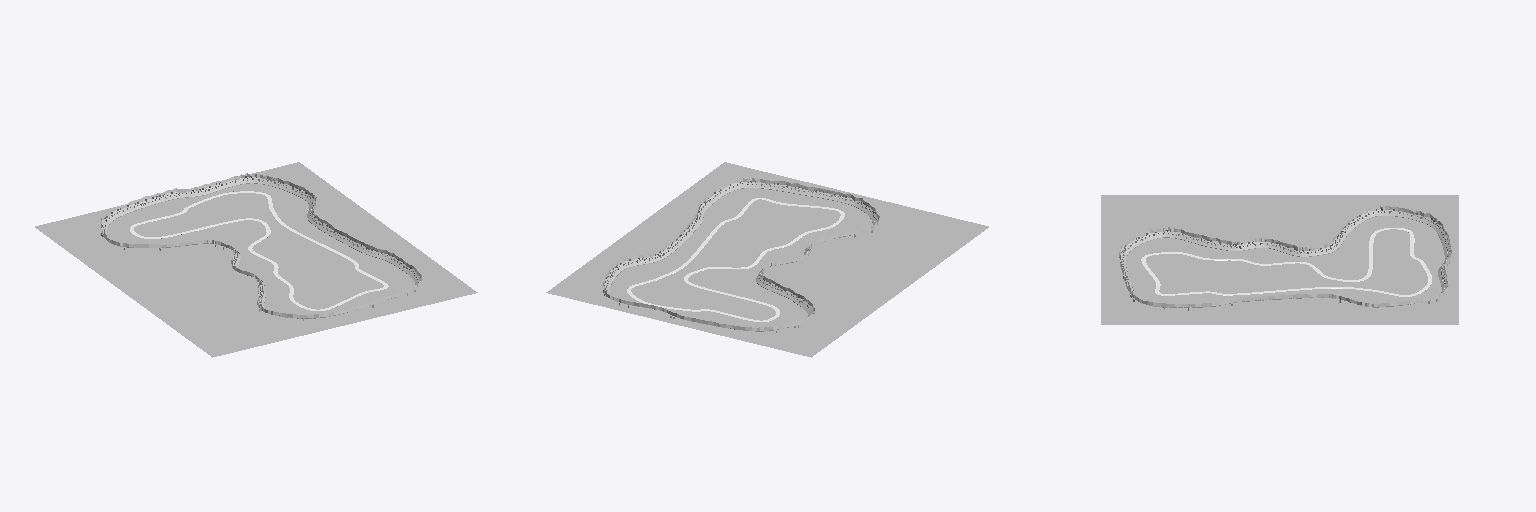
3 views of the same model, side by side, from view 1: azimuth 30°, elevation 25°; view 2: azimuth 150°, elevation 25°; view 3: azimuth 270°, elevation 25° (orthographic).
Parts seen in each view (by area): view 1: Plane, RaceTrack_Wall_00, RaceTrack_Main_00, RaceTrack_Trees_00; view 2: Plane, RaceTrack_Wall_00, RaceTrack_Main_00, RaceTrack_Trees_00; view 3: Plane, RaceTrack_Wall_00, RaceTrack_Main_00, RaceTrack_Trees_00.
Boxes of the visible parts, x1=… form: Plane: x1=35, y1=162, x2=477, y2=357; RaceTrack_Wall_00: x1=101, y1=173, x2=421, y2=318; RaceTrack_Main_00: x1=129, y1=191, x2=388, y2=310; RaceTrack_Trees_00: x1=101, y1=176, x2=420, y2=320; Plane: x1=546, y1=162, x2=988, y2=357; RaceTrack_Wall_00: x1=603, y1=178, x2=879, y2=331; RaceTrack_Main_00: x1=627, y1=198, x2=844, y2=321; RaceTrack_Trees_00: x1=603, y1=181, x2=878, y2=332; Plane: x1=1101, y1=195, x2=1458, y2=324; RaceTrack_Wall_00: x1=1119, y1=206, x2=1451, y2=307; RaceTrack_Main_00: x1=1141, y1=228, x2=1431, y2=296; RaceTrack_Trees_00: x1=1119, y1=208, x2=1450, y2=310.
Bounding box in the file's own units: 1200 × 35.27 × 1400.